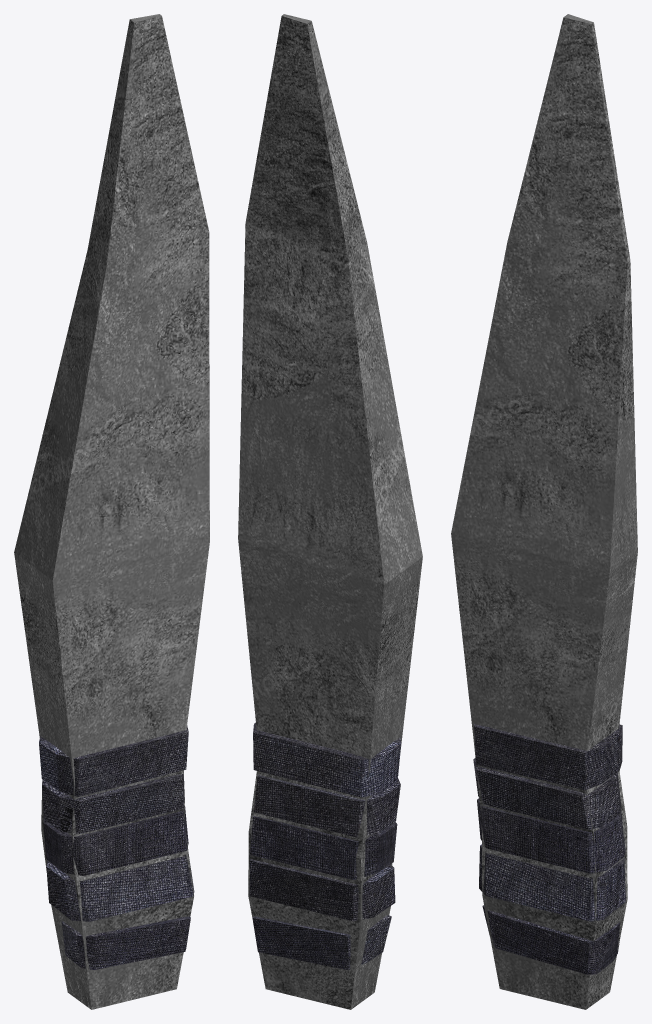
Rendered from StoneKnife.fbx.
3 views of the same model, side by side, from view 1: azimuth 30°, elevation 25°; view 2: azimuth 150°, elevation 25°; view 3: azimuth 330°, elevation 25° (orthographic).
Parts seen in each view (by area): view 1: Cube.003; view 2: Cube.003; view 3: Cube.003.
Part boxes in pixels (x1,y1,x2,y2): Cube.003: (14,14,209,1009); Cube.003: (238,14,422,1009); Cube.003: (451,14,637,1009).
Bounding box in the file's own units: 4.61 × 1.95 × 25.77.
Materials: 2 (2 with a texture image).
